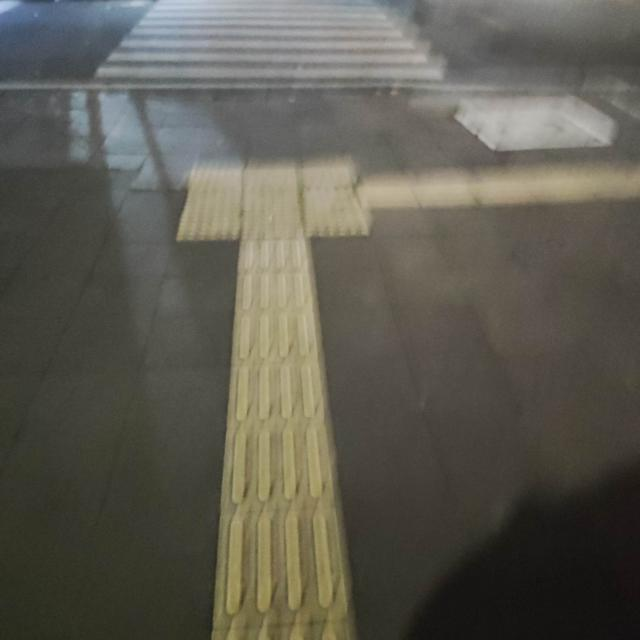kanan: (201, 146, 475, 267)
